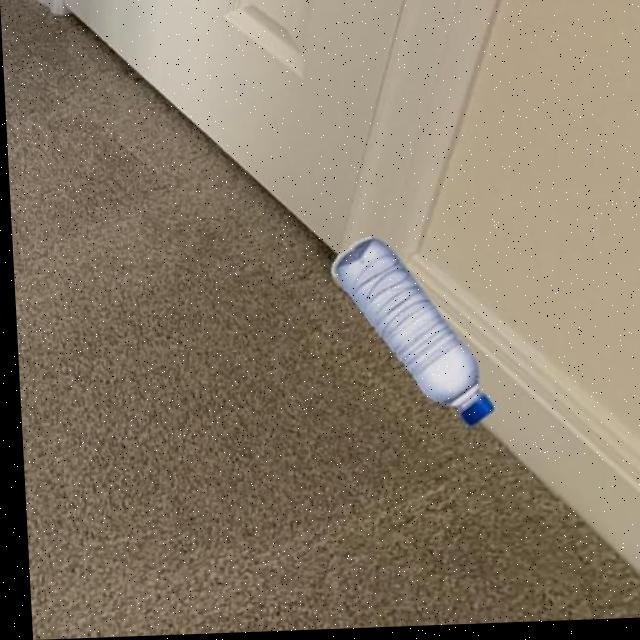bottle: (324, 235, 491, 434)
